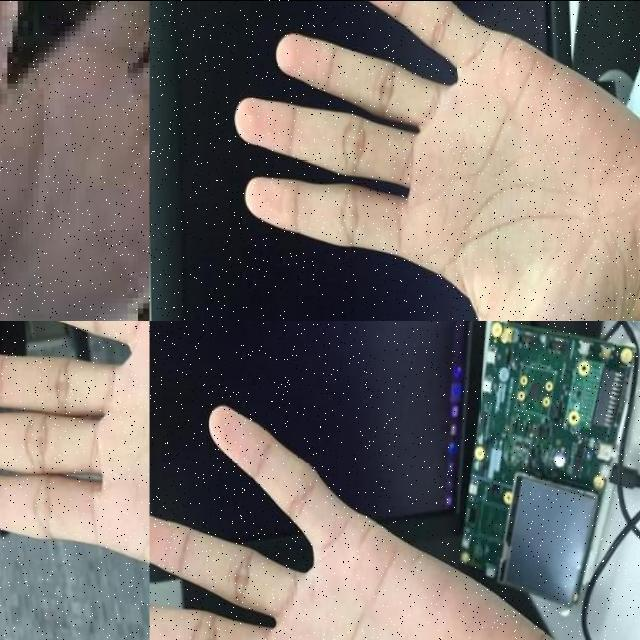hand: (232, 0, 640, 320), (149, 372, 556, 640), (0, 320, 150, 640), (0, 0, 150, 320)
